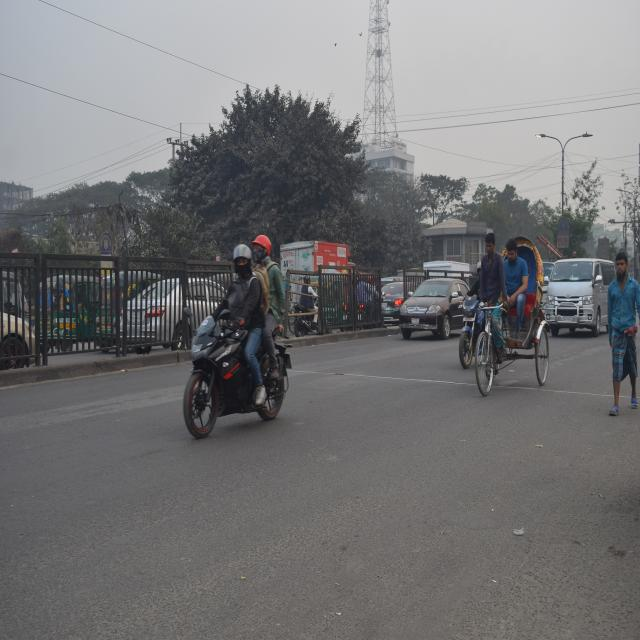car: (114, 267, 234, 349), (396, 268, 466, 343), (383, 263, 413, 325)
microbus: (546, 238, 635, 353)
motorbike: (177, 292, 295, 443), (553, 246, 601, 312), (458, 282, 488, 363)
